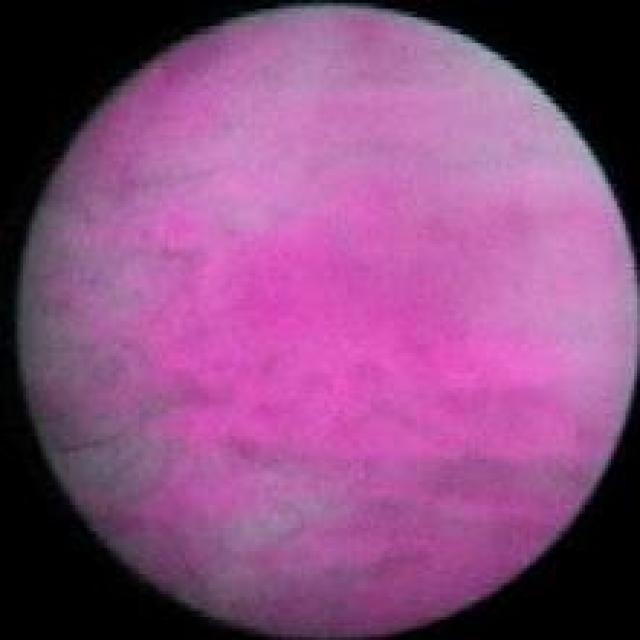blur: (15, 6, 636, 634)
